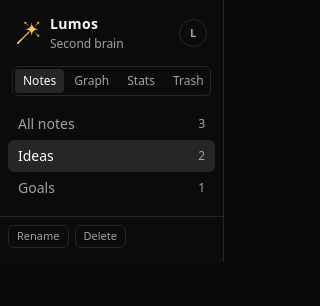
it: Sidebar - renaming a folder › starts the form with the folder's own name, so a typo needs a second edit
Step 1. Click the button "Rename" → (38, 236), box x1=8 y1=225 x2=68 y2=248
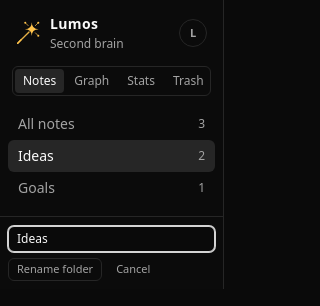
Result: the field named "New folder name" holds "Ideas" at x1=8 y1=226 x2=215 y2=252
